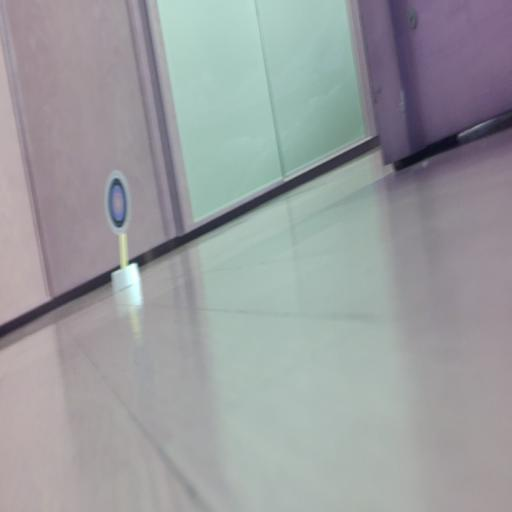target: (104, 171, 132, 235)
